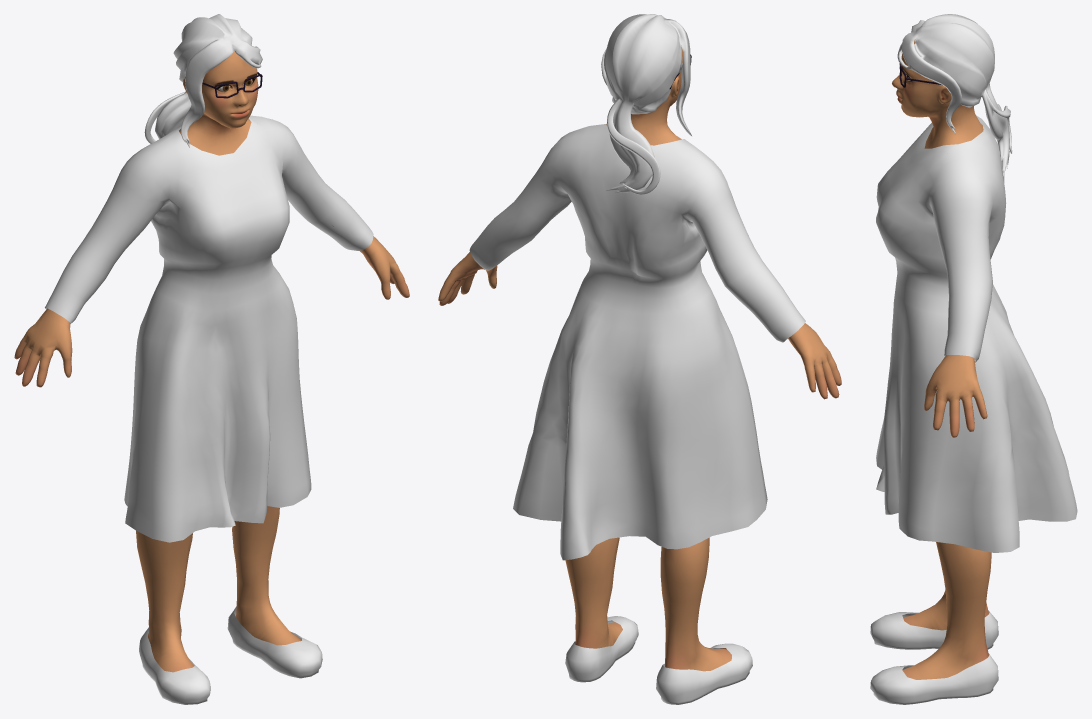
Rendered from Coach.fbx.
The picture shows the model from 3 angles, left to right: view 1: azimuth 30°, elevation 25°; view 2: azimuth 150°, elevation 25°; view 3: azimuth 270°, elevation 25°; orthographic projection. The views are drawn at different scales.
Visible parts, largest first — view 1: Coach garment1, body.001, hair, shoes; view 2: Coach garment1, body.001, hair, shoes; view 3: Coach garment1, body.001, hair, shoes.
Boxes of the visible parts, <box> form: Coach garment1: <box>45,115,373,542</box>; body.001: <box>14,51,409,672</box>; hair: <box>144,14,262,147</box>; shoes: <box>139,606,322,704</box>; Coach garment1: <box>469,123,805,560</box>; body.001: <box>438,45,841,671</box>; hair: <box>601,14,691,194</box>; shoes: <box>565,616,752,704</box>; Coach garment1: <box>876,115,1077,552</box>; body.001: <box>892,39,991,679</box>; hair: <box>897,14,1012,176</box>; shoes: <box>870,610,998,704</box>.
Bounding box in the file's own units: 116 × 186 × 53.94.
3 materials, 1 textured.
